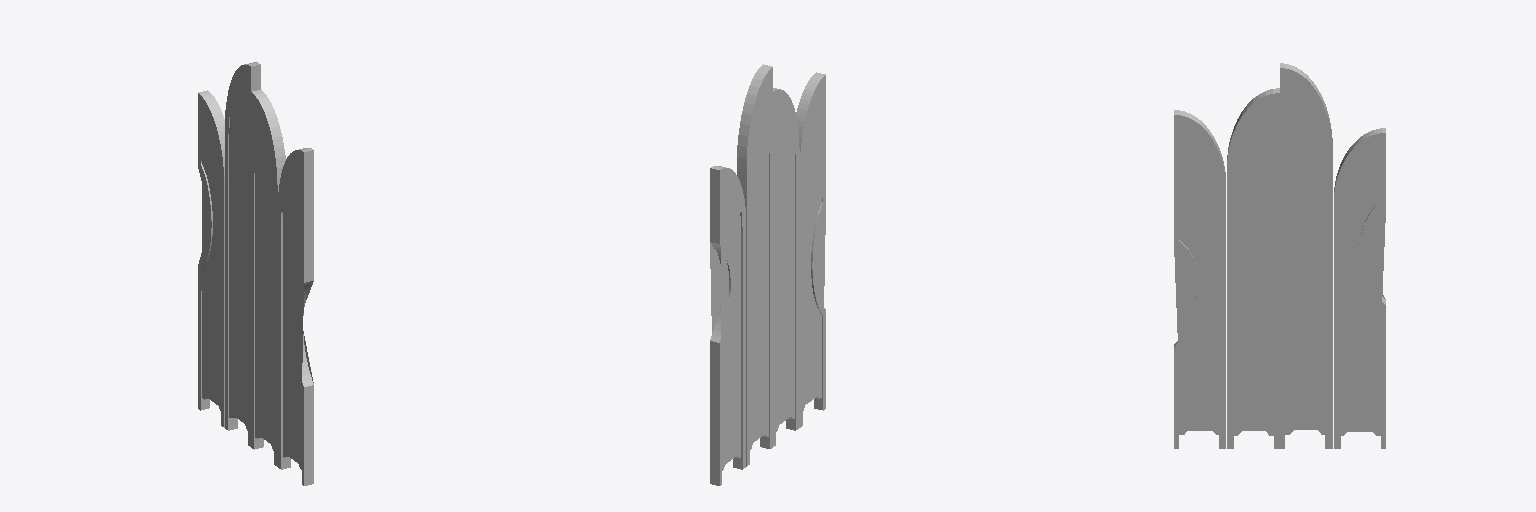
The model's file is Biombo.obj.
3 renders of one model, left to right at view 1: azimuth 30°, elevation 25°; view 2: azimuth 150°, elevation 25°; view 3: azimuth 270°, elevation 25°, orthographic.
Visible parts, largest first — view 1: Cube.003, Cube.006, Cube.007, Cube.005; view 2: Cube.007, Cube.005, Cube.006, Cube.003; view 3: Cube.007, Cube.006, Cube.003, Cube.005.
Boxes of the visible parts, box(x1,y1,x2,y2) form: Cube.003: box(278, 148, 313, 485); Cube.006: box(251, 90, 285, 466); Cube.007: box(225, 62, 260, 446); Cube.005: box(198, 90, 224, 427); Cube.007: box(737, 64, 772, 466); Cube.005: box(710, 166, 745, 485); Cube.006: box(773, 88, 799, 446); Cube.003: box(796, 72, 825, 427); Cube.007: box(1280, 63, 1332, 448); Cube.006: box(1227, 88, 1279, 448); Cube.003: box(1174, 110, 1225, 448); Cube.005: box(1334, 128, 1385, 448).
Size of the model in its own units: 0.1093 by 3.99 by 2.01.